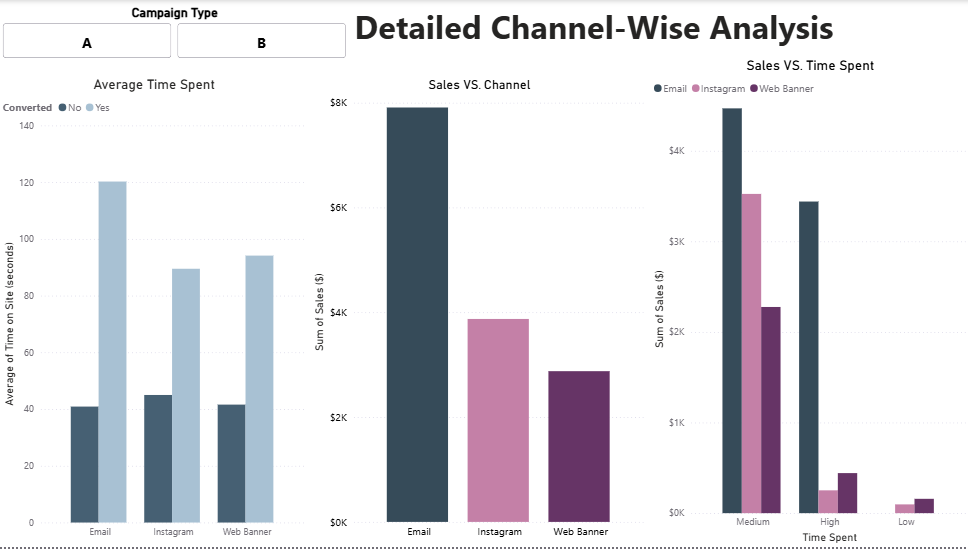

Layout of this report page (visuals, bound fields, positions):
{"tool":"powerbi","page":{"name":"Channel Analysis","canvas":[1280,720],"ordinal":1},"visuals":[{"type":"clusteredColumnChart","title":"Average Time Spent","fields":{"Y":["Avg(Clean_data.Time on Site (seconds))"],"Series":["Clean_data.Converted"],"Category":["Clean_data.Channel"]},"box":[0,101.5,409.2,618.3],"z":0},{"type":"clusteredColumnChart","title":"Sales VS. Time Spent","fields":{"Category":["Clean_data.Time_spent_category"],"Y":["Sum(Clean_data.Sales ($))"],"Series":["Clean_data.Channel"]},"box":[856.2,75.8,424.3,644],"z":1000},{"type":"advancedSlicerVisual","fields":{"Values":["Clean_data.Campaign Type"]},"box":[0,6.3,463.1,75.9],"z":2000},{"type":"textbox","box":[463.8,0,816.6,72.4],"z":3000},{"type":"clusteredColumnChart","title":"Sales VS. Channel","fields":{"Y":["Sum(Clean_data.Sales ($))"],"Category":["Clean_data.Channel"]},"box":[409.2,101.5,447,618.3],"z":4000}]}

Visuals, with their boxes in screenshot pixels (x1, y1, x2, y2), scaled from the page's 1280x720 canvas onto the 968x549 screenshot:
"Average Time Spent" clusteredColumnChart: [0,77,309,548]
"Sales VS. Time Spent" clusteredColumnChart: [648,58,967,548]
advancedSlicerVisual - Clean_data.Campaign Type: [0,5,350,63]
textbox: [351,0,967,55]
"Sales VS. Channel" clusteredColumnChart: [309,77,648,548]
